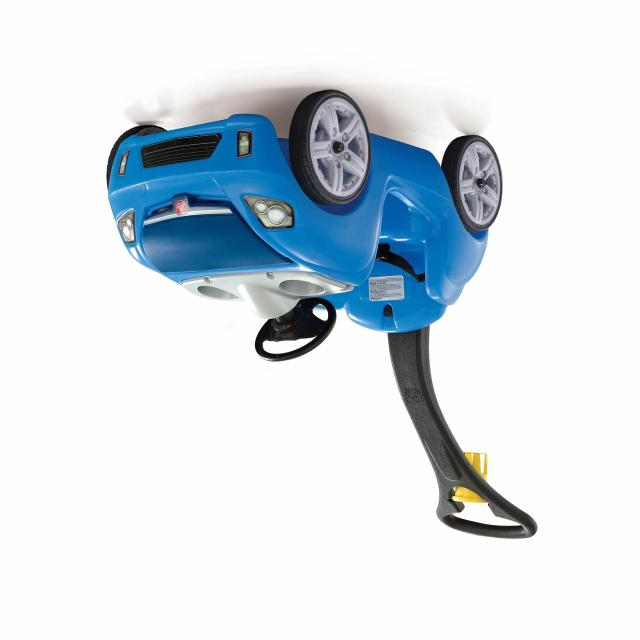Car: (105, 90, 537, 540)
